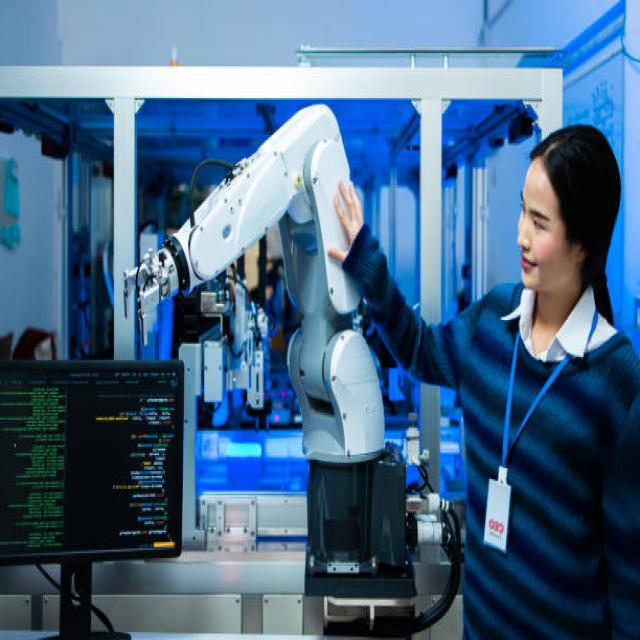Robotic-arm: (120, 90, 394, 477)
